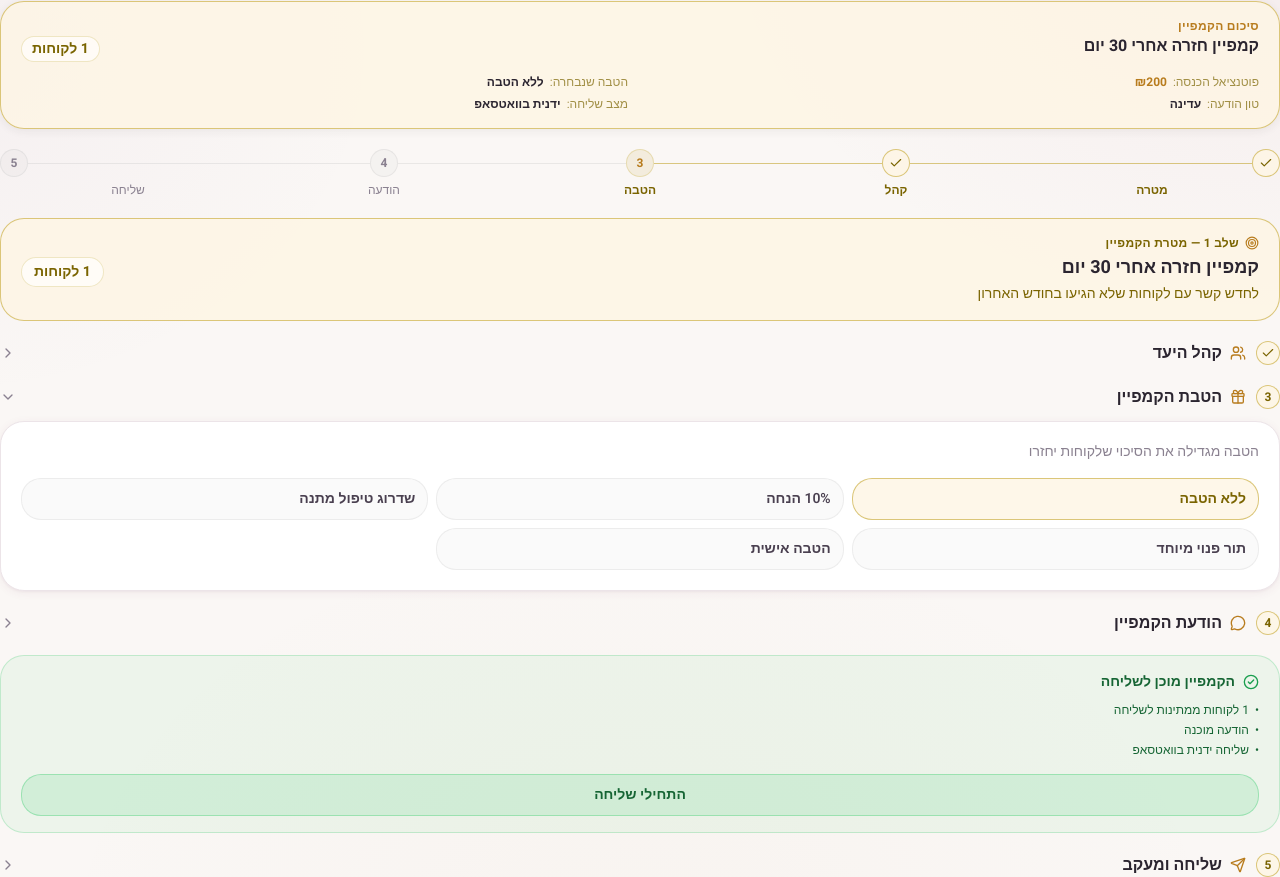
Test: CampaignView — send & tracking › cycles a tracking badge through statuses on click
The image size is (1280, 877).
(page scrolled)
Click the button "5 שליחה ומעקב" at (1172, 864), box [0,852,1279,876]
(page scrolled)
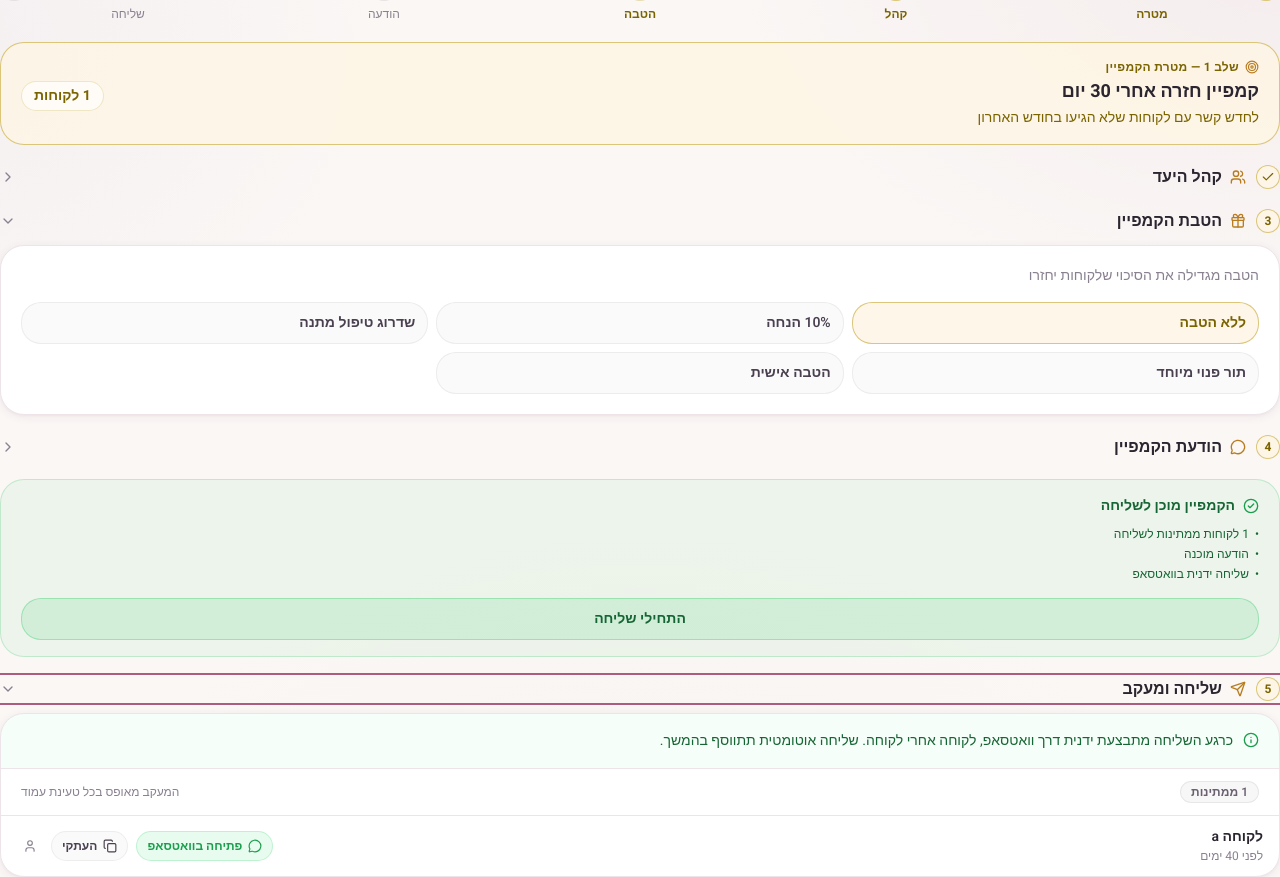
Click the link "פתיחה בוואטסאפ" at (205, 846), box [136,831,274,861]
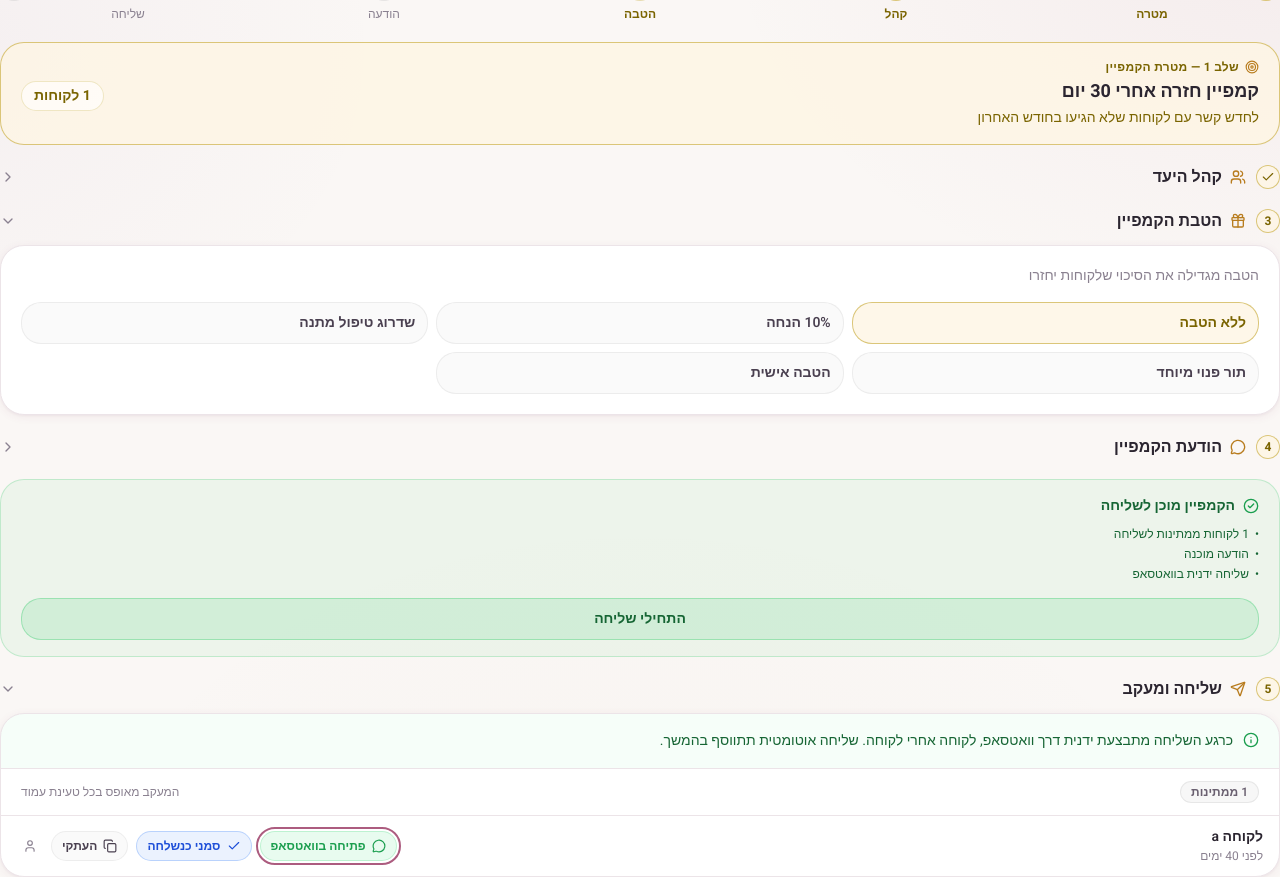
Click the button "סמני כנשלחה" at (194, 846), box [136,831,252,861]
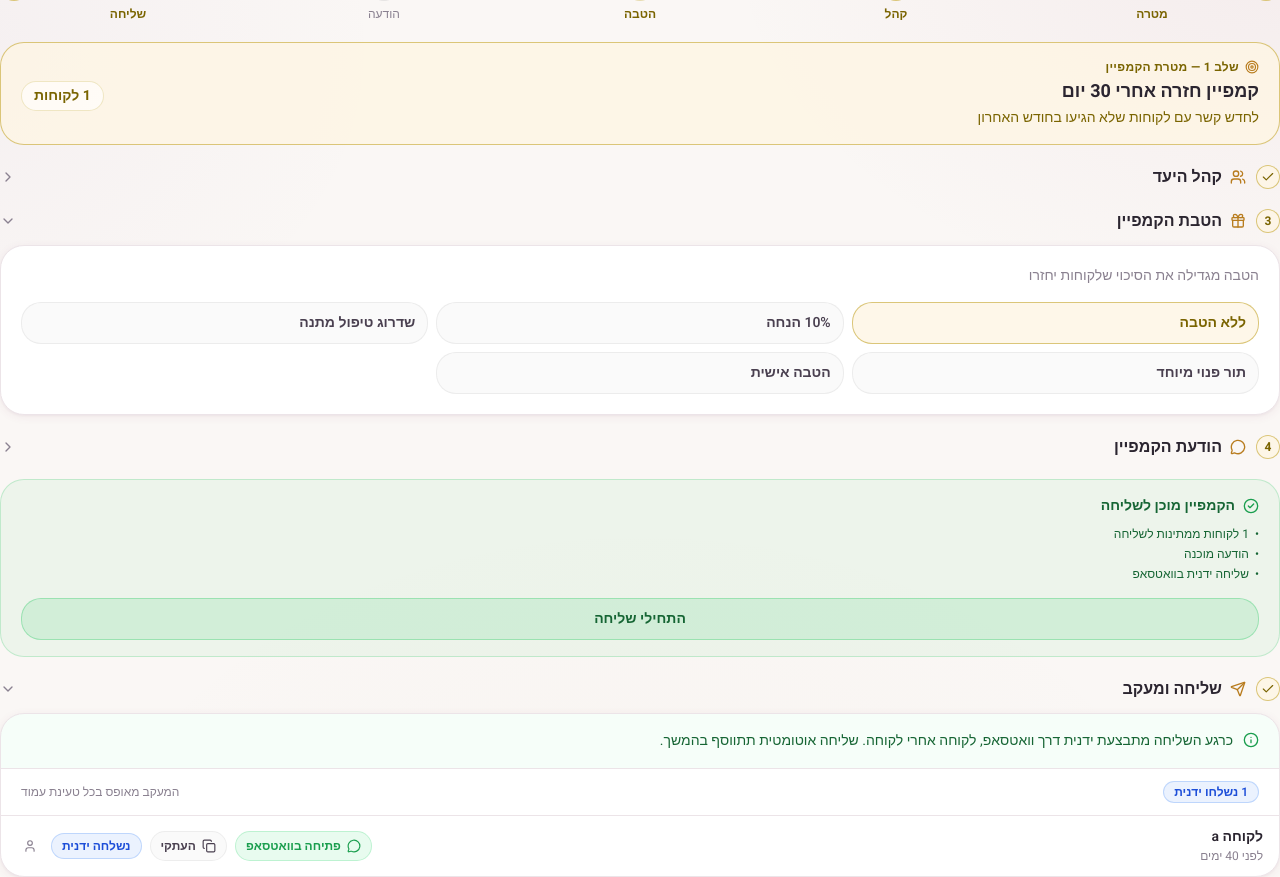
Click the button "נשלחה ידנית" at (96, 846), box [51,833,142,859]
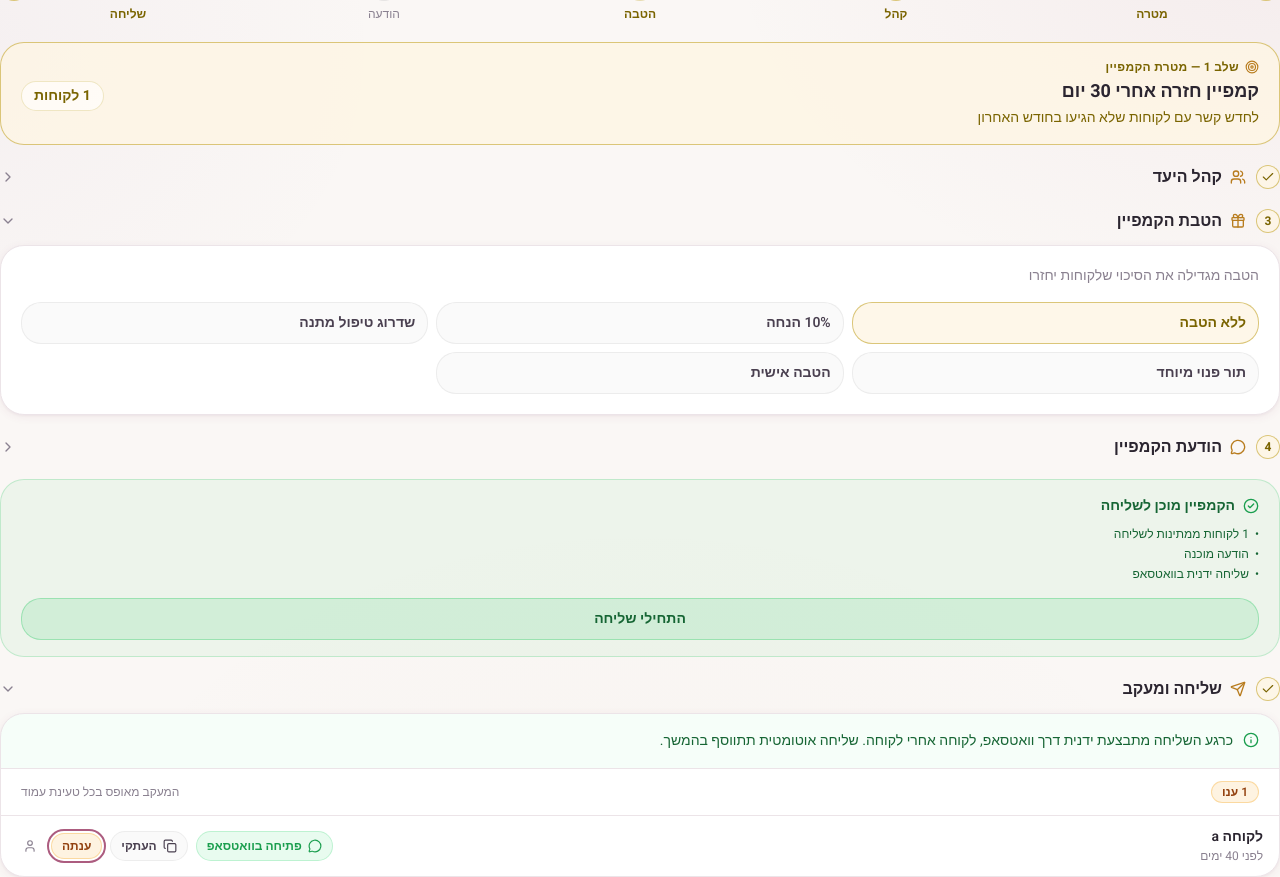
Now the button "ענתה" is shown, box [51,833,102,859]
